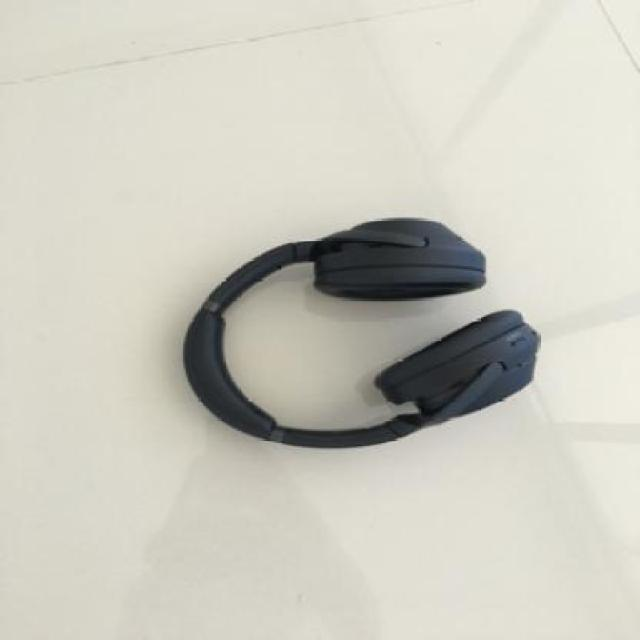earphone: (178, 116, 520, 526)
